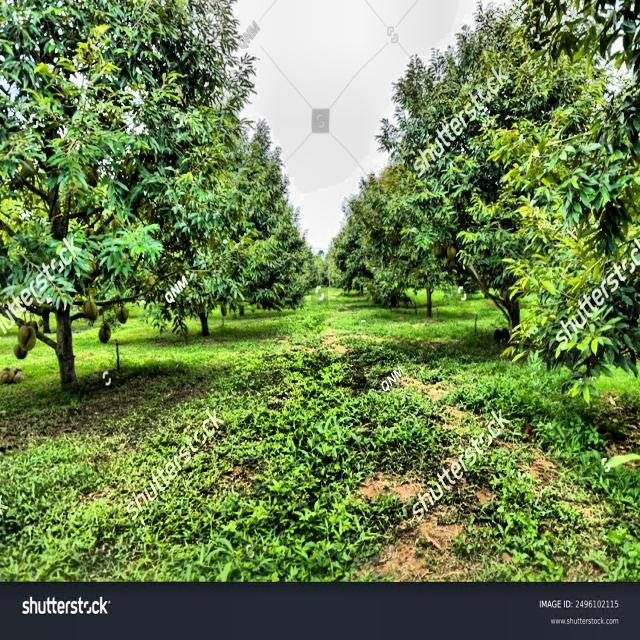arvore: (28, 70, 82, 393), (491, 219, 527, 362), (184, 230, 217, 352), (417, 219, 441, 336)
